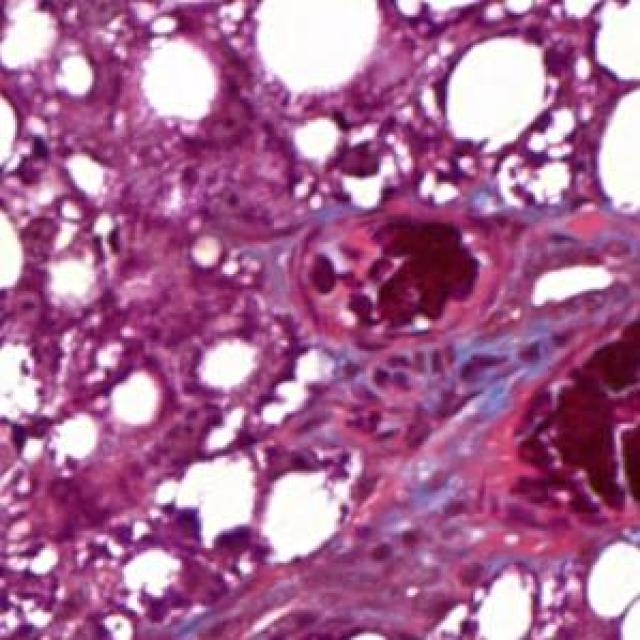steatosis: (437, 32, 552, 165)
